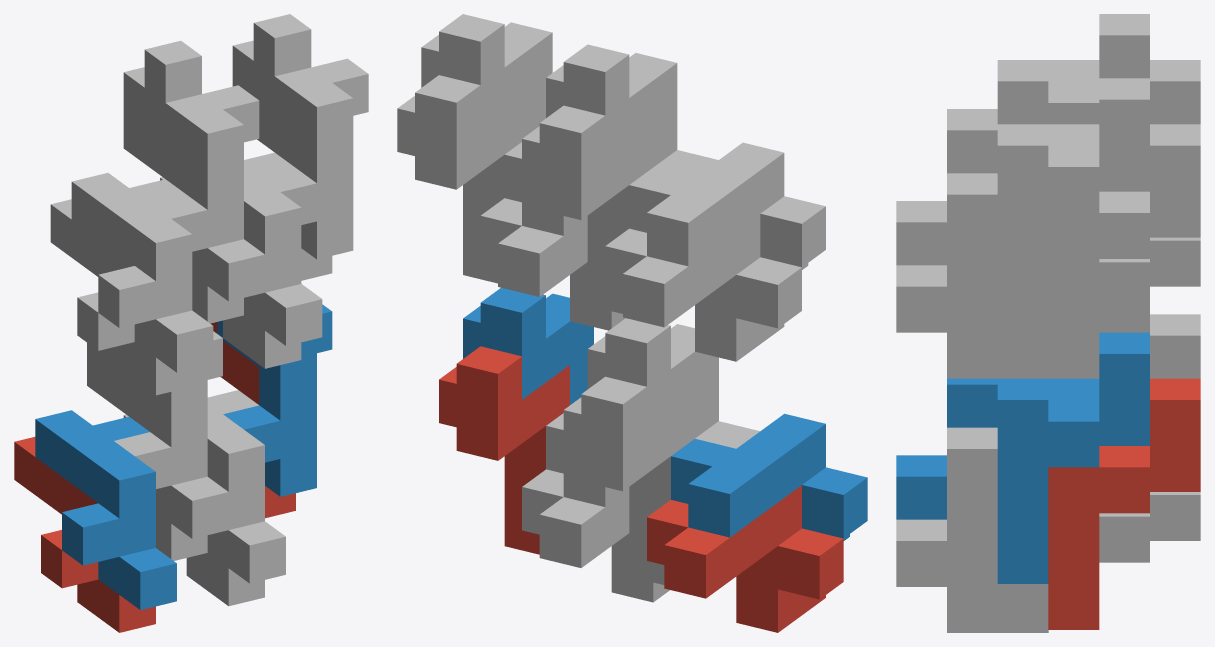
File: tiling.obj
The picture shows the model from 3 angles, left to right: view 1: azimuth 30°, elevation 25°; view 2: azimuth 150°, elevation 25°; view 3: azimuth 270°, elevation 25°; orthographic projection. The views are drawn at different scales.
Visible parts, largest first — view 1: copy_2_domain_8, copy_1_domain_4, copy_1_domain_2, copy_2_domain_4, copy_1_domain_8, copy_1_domain_6, copy_2_domain_6, copy_2_domain_2, copy_1_domain_3, copy_1_domain_1, copy_1_domain_7, copy_1_domain_5 (+4 smaller); view 2: copy_1_domain_1, copy_1_domain_3, copy_1_domain_4, copy_1_domain_2, copy_2_domain_3, copy_2_domain_1, copy_2_domain_7, copy_2_domain_5, copy_2_domain_4, copy_2_domain_2, copy_2_domain_8, copy_2_domain_6 (+4 smaller); view 3: copy_2_domain_6, copy_2_domain_8, copy_2_domain_7, copy_2_domain_5, copy_1_domain_6, copy_1_domain_8, copy_1_domain_7, copy_2_domain_4, copy_1_domain_5, copy_1_domain_4, copy_1_domain_2, copy_2_domain_1 (+2 smaller).
Boxes of the visible parts, x1=… form: copy_2_domain_8: x1=253, y1=14, x2=368, y2=259; copy_1_domain_4: x1=71, y1=173, x2=213, y2=372; copy_1_domain_2: x1=35, y1=410, x2=176, y2=610; copy_2_domain_4: x1=144, y1=40, x2=259, y2=285; copy_1_domain_8: x1=207, y1=152, x2=322, y2=345; copy_1_domain_6: x1=171, y1=390, x2=285, y2=583; copy_2_domain_6: x1=217, y1=304, x2=332, y2=496; copy_2_domain_2: x1=108, y1=331, x2=222, y2=523; copy_1_domain_3: x1=50, y1=199, x2=192, y2=395; copy_1_domain_1: x1=14, y1=437, x2=155, y2=632; copy_1_domain_7: x1=160, y1=177, x2=301, y2=368; copy_1_domain_5: x1=123, y1=414, x2=264, y2=606; copy_1_domain_1: x1=647, y1=485, x2=843, y2=632; copy_1_domain_3: x1=605, y1=214, x2=801, y2=361; copy_1_domain_4: x1=629, y1=142, x2=825, y2=269; copy_1_domain_2: x1=671, y1=413, x2=867, y2=540; copy_2_domain_3: x1=522, y1=105, x2=653, y2=313; copy_2_domain_1: x1=563, y1=376, x2=694, y2=584; copy_2_domain_7: x1=397, y1=75, x2=528, y2=283; copy_2_domain_5: x1=439, y1=346, x2=569, y2=554; copy_2_domain_4: x1=546, y1=44, x2=718, y2=177; copy_2_domain_2: x1=587, y1=318, x2=759, y2=448; copy_2_domain_8: x1=421, y1=14, x2=552, y2=133; copy_2_domain_6: x1=463, y1=287, x2=593, y2=404; copy_2_domain_6: x1=997, y1=332, x2=1149, y2=583; copy_2_domain_8: x1=997, y1=78, x2=1149, y2=329; copy_2_domain_7: x1=1048, y1=124, x2=1200, y2=375; copy_2_domain_5: x1=1048, y1=378, x2=1200, y2=629; copy_1_domain_6: x1=896, y1=427, x2=997, y2=586; copy_1_domain_8: x1=896, y1=173, x2=997, y2=332; copy_1_domain_7: x1=947, y1=237, x2=1200, y2=378; copy_2_domain_4: x1=997, y1=14, x2=1149, y2=124; copy_1_domain_5: x1=947, y1=492, x2=1200, y2=632; copy_1_domain_4: x1=896, y1=109, x2=997, y2=265; copy_1_domain_2: x1=896, y1=378, x2=997, y2=519; copy_2_domain_1: x1=1150, y1=314, x2=1200, y2=378.
Size of the model in its own units: 9 by 13 by 6.
